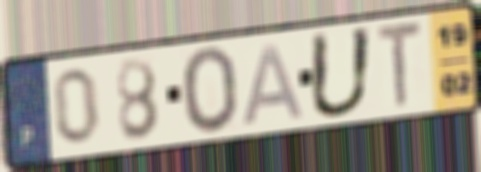0: (51, 64, 104, 149)
8: (114, 57, 161, 143)
A: (239, 40, 308, 128)
O: (179, 44, 242, 139)
T: (374, 17, 425, 113)
U: (306, 24, 376, 121)
